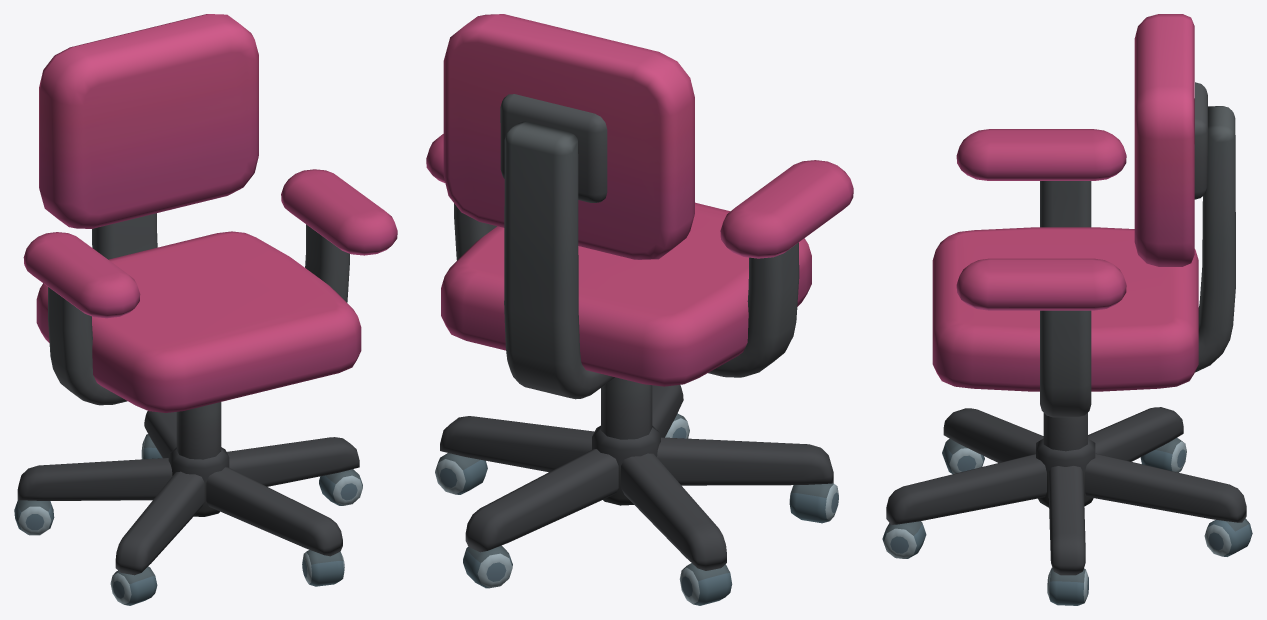
Rendered from Chair_PC_04.glb.
The picture shows the model from 3 angles, left to right: view 1: azimuth 30°, elevation 25°; view 2: azimuth 150°, elevation 25°; view 3: azimuth 270°, elevation 25°; orthographic projection. The views are drawn at different scales.
Parts seen in each view (by area): view 1: Chair_PC_04; view 2: Chair_PC_04; view 3: Chair_PC_04.
Part boxes in pixels (x1,y1,x2,y2): Chair_PC_04: (14,14,397,605); Chair_PC_04: (426,14,853,605); Chair_PC_04: (882,14,1252,605).
Size of the model in its own units: 0.7497 by 1.05 by 0.7324.
Materials: 1 (1 with a texture image).
